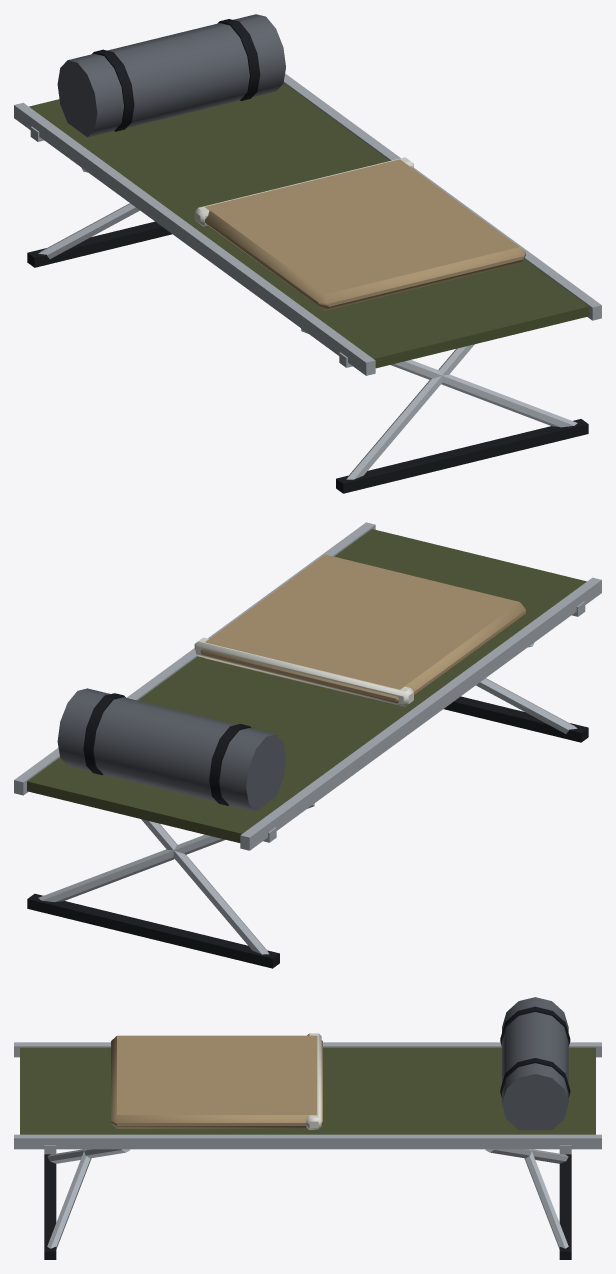
File: bed_folding_cot.glb
3 views of the same model, one above another, from view 1: azimuth 30°, elevation 25°; view 2: azimuth 150°, elevation 25°; view 3: azimuth 270°, elevation 25° (orthographic). The views are drawn at different scales.
Parts seen in each view (by area): view 1: bed_folding_cot; view 2: bed_folding_cot; view 3: bed_folding_cot.
Part boxes in pixels (bbox=[...]): bed_folding_cot: bbox=[14, 14, 601, 493]; bed_folding_cot: bbox=[14, 522, 601, 968]; bed_folding_cot: bbox=[14, 997, 601, 1259].
Bounding box in the file's own units: 0.78 × 0.64 × 1.94.
